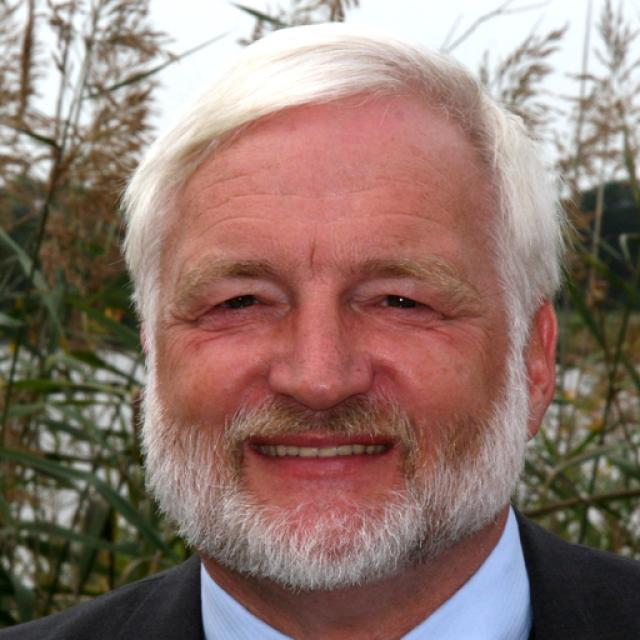happy: (144, 108, 526, 592)
